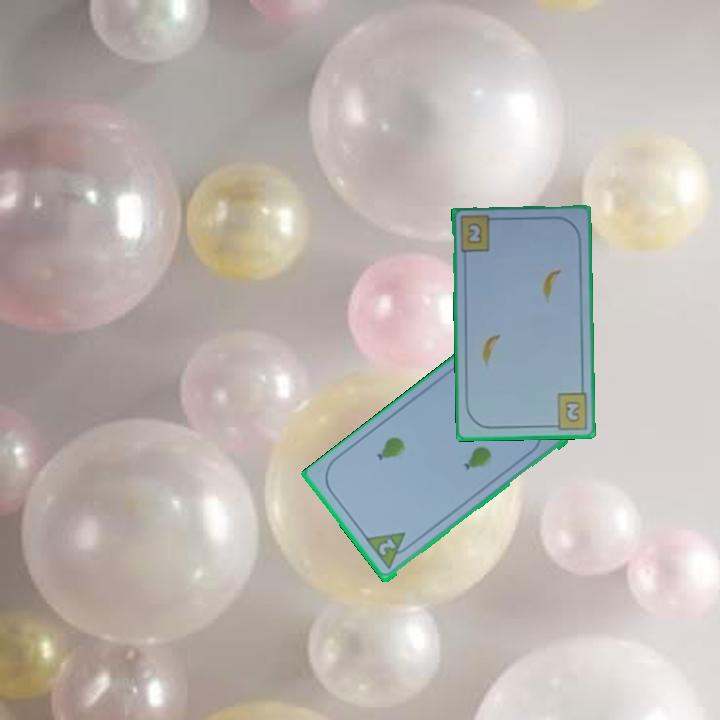2b: (546, 389, 591, 432), (464, 219, 485, 247)
2p: (375, 535, 399, 559)
